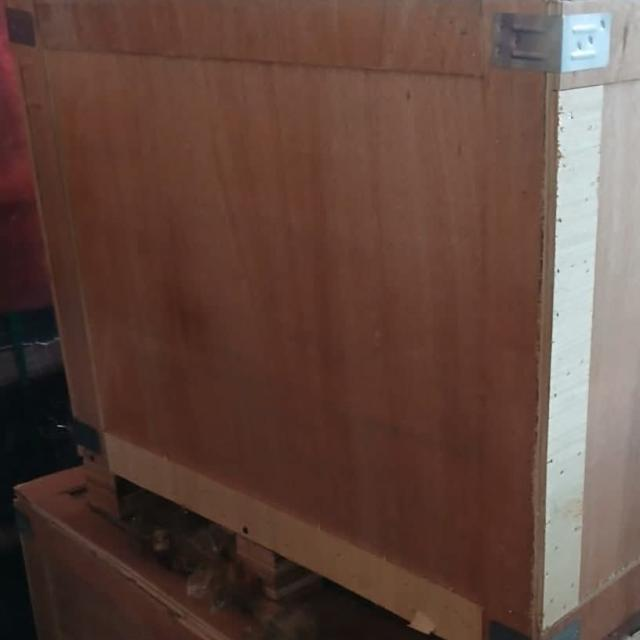wooden_box: (4, 0, 640, 633)
